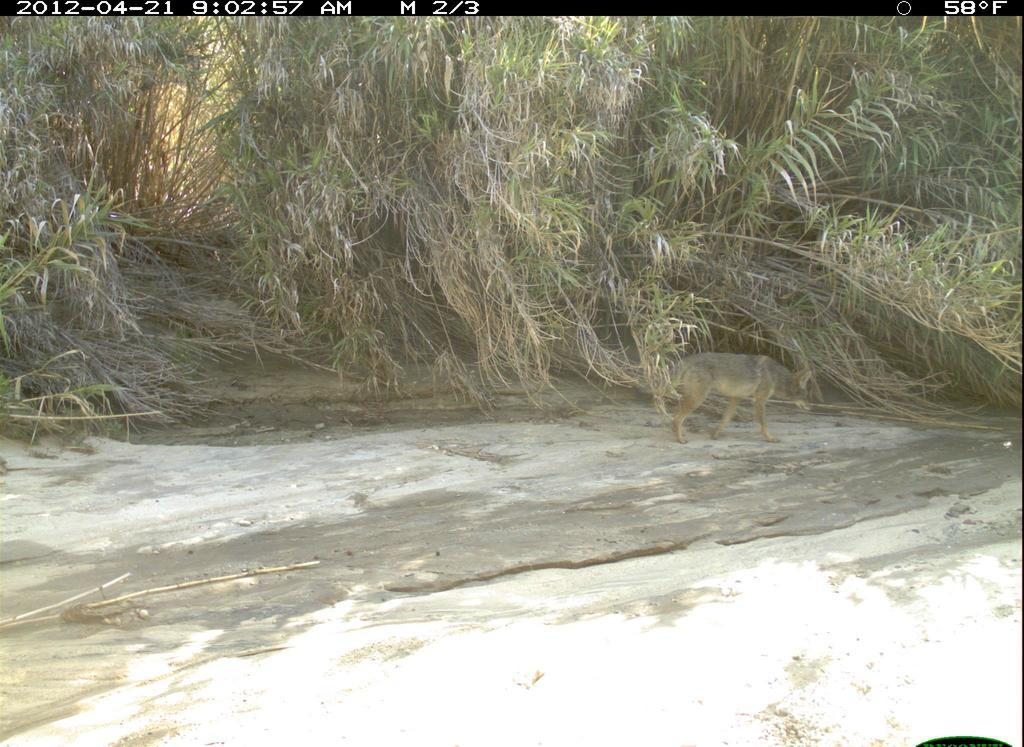coyote: (644, 337, 826, 448)
